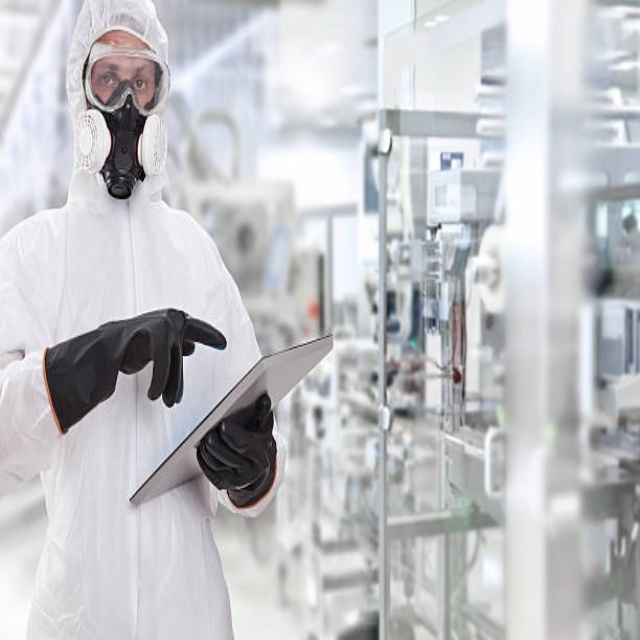Gafas: (83, 51, 171, 116)
Guantes: (44, 307, 227, 433), (197, 391, 278, 505)
Mascara: (72, 74, 170, 205)
